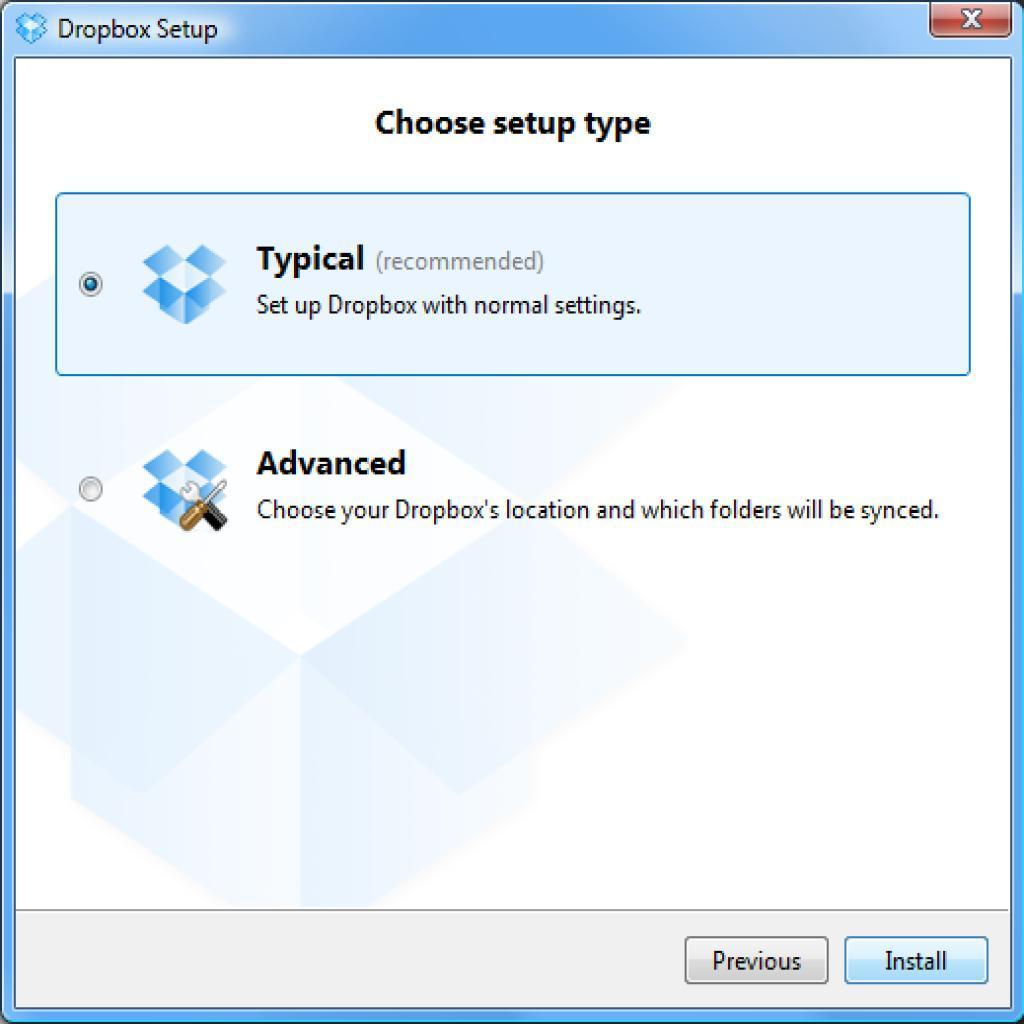button: (844, 934, 990, 986), (685, 937, 829, 984)
radio: (77, 269, 113, 306), (77, 473, 111, 509)
